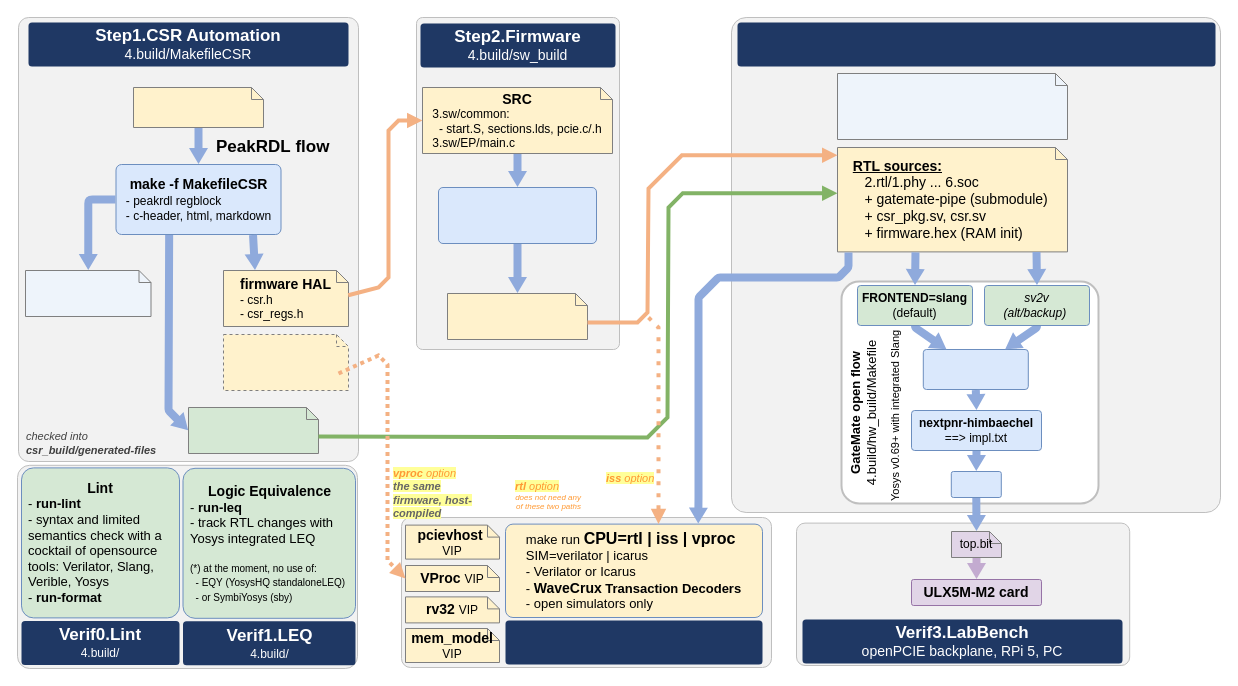
Some shapes in this 1238 by 686 pixel diagram are drawn without their labels. The shapes that lost their labels are listed below. From the top down, each one's box as (x1, y1, x2, y2) in pixels, then its label:
(737, 22, 1215, 66): Step3.FPGA GateMate CCGM1A1 / A2
(132, 86, 264, 128): SRC csr_build/csr.rdl
(836, 72, 1068, 140): Constraints: pins: *.ccf timing: *.sdc
(438, 186, 596, 244): make riscv-none-elf-gcc, rv32i
(24, 270, 151, 316): *.md, html/ (register map docs)
(446, 292, 588, 340): firmware.elf / .bin / .hex
(222, 334, 348, 390): co-sim HAL CSR_* → VProc
(922, 348, 1028, 390): yosys synth_gatemate ==> .json
(188, 406, 318, 454): csr_pkg.sv, csr.sv (register block RTL)
(950, 470, 1001, 498): gmpack
(505, 620, 762, 664): Verif2.Co-Sim 5.sim
